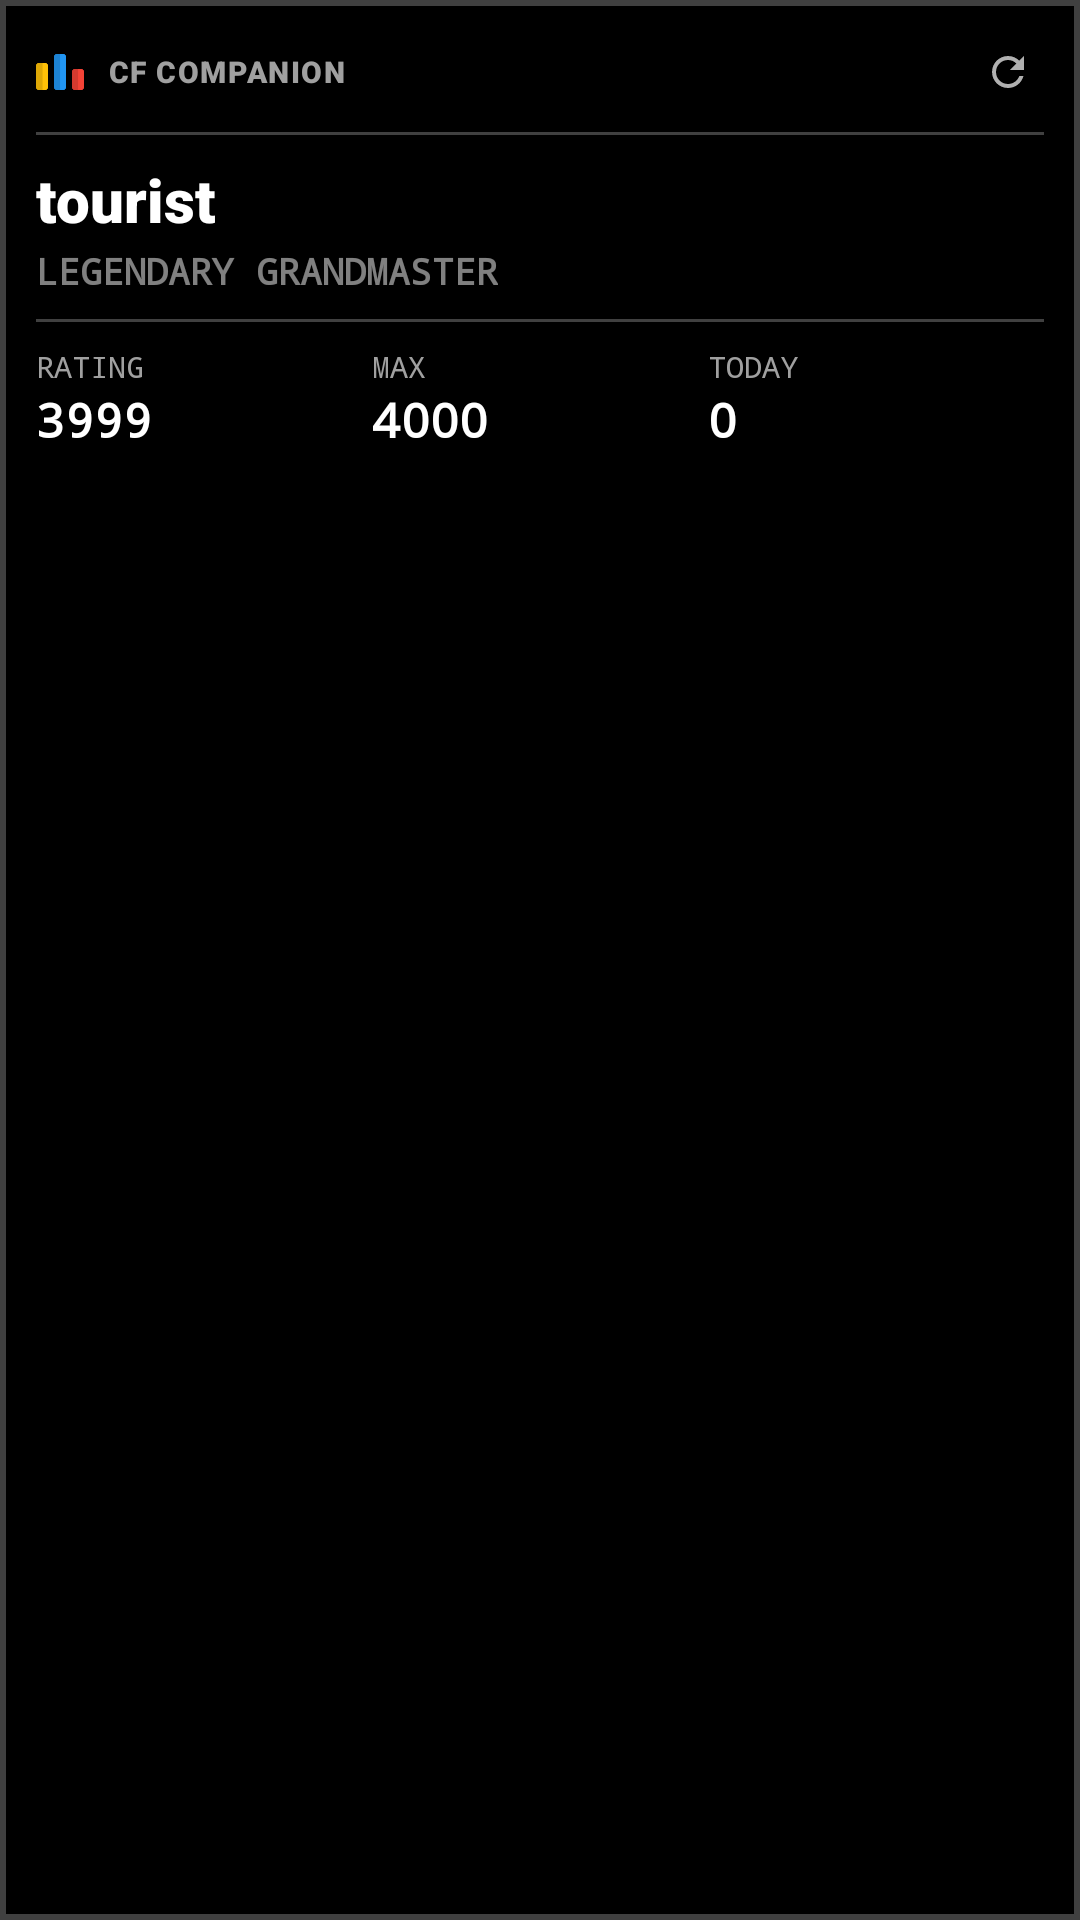

Locate icon controls on the screen. Image size 1080×1920, boxes as (x1, y1, x2, y2).
refresh: (992, 56, 1024, 88)
